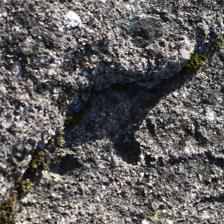Crack: (25, 18, 188, 151)
